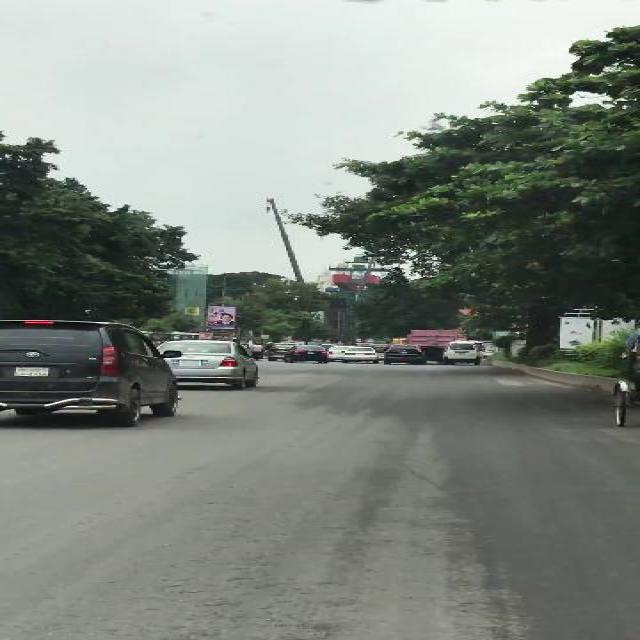vehicle: (1, 319, 161, 429), (167, 341, 265, 389), (404, 328, 458, 347), (443, 342, 480, 367), (384, 345, 425, 365), (287, 346, 328, 365), (342, 348, 378, 364), (269, 343, 292, 361), (327, 347, 343, 361)
